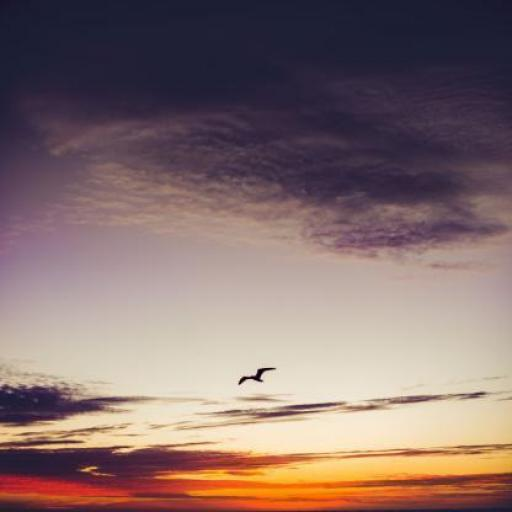bird: (238, 368, 276, 385)
